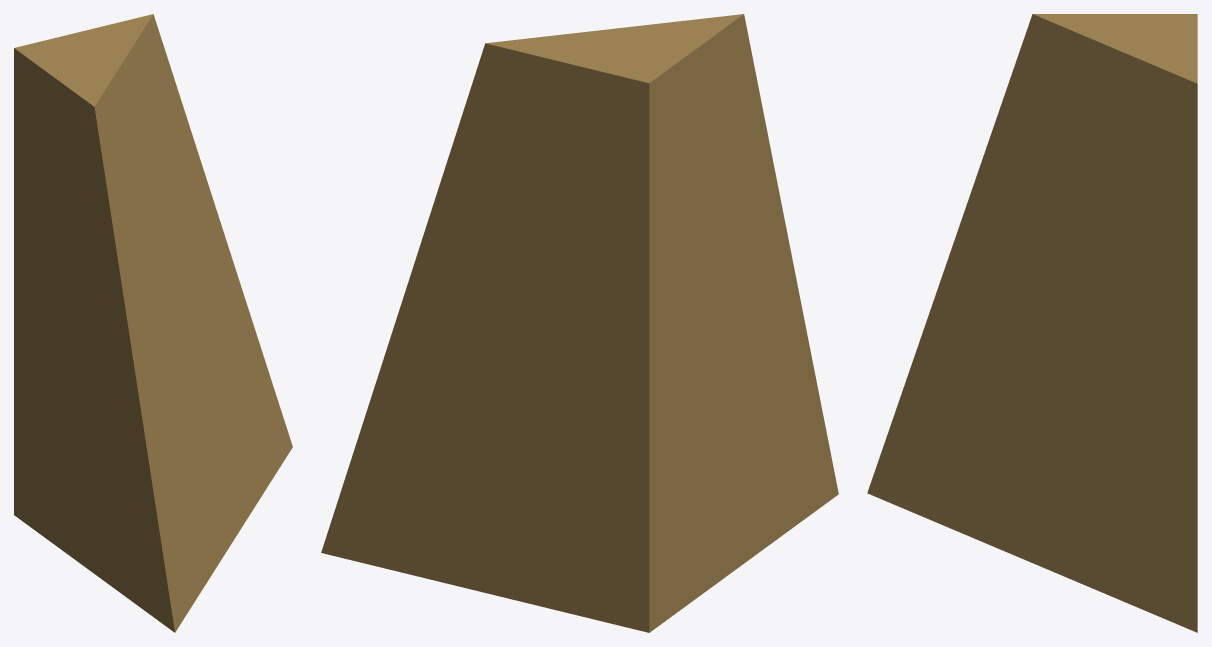
Rendered from Terrain_Modular_Tiles_Dirt_Cliff_Side_Outer_Corner_01.fbx.
3 renders of one model, left to right at view 1: azimuth 30°, elevation 25°; view 2: azimuth 150°, elevation 25°; view 3: azimuth 270°, elevation 25°, orthographic. The views are drawn at different scales.
Parts seen in each view (by area): view 1: Terrain_Modular_Tiles_Dirt_Cliff_Side_Outer_Corner_01; view 2: Terrain_Modular_Tiles_Dirt_Cliff_Side_Outer_Corner_01; view 3: Terrain_Modular_Tiles_Dirt_Cliff_Side_Outer_Corner_01.
Part boxes in pixels (bbox=[...]): Terrain_Modular_Tiles_Dirt_Cliff_Side_Outer_Corner_01: bbox=[14, 14, 292, 632]; Terrain_Modular_Tiles_Dirt_Cliff_Side_Outer_Corner_01: bbox=[321, 14, 838, 632]; Terrain_Modular_Tiles_Dirt_Cliff_Side_Outer_Corner_01: bbox=[867, 14, 1197, 632].
Bounding box in the file's own units: 59.06 × 94.49 × 59.06.
